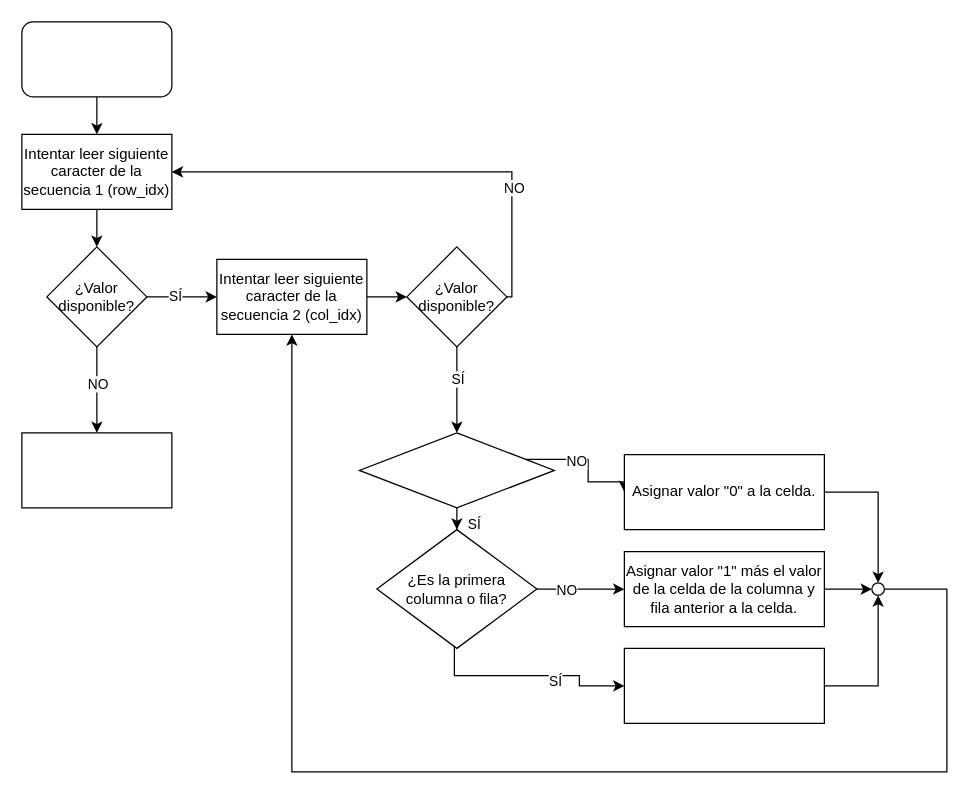
Image size: 979x804. Some labels were removed from this diagram. The centre of each missing label's shape, as x and y in pixels:
Asignar valor "1" a la celda.: [723,685]
FIN: [96,470]
INICIO: [96,59]
¿row_idx == col_idx?: [456,470]
